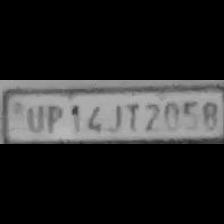0: (160, 99, 180, 131)
1: (64, 102, 82, 134)
2: (139, 98, 161, 132)
4: (82, 100, 106, 132)
5: (180, 99, 198, 131)
8: (198, 98, 220, 130)
J: (106, 100, 122, 132)
P: (42, 102, 64, 134)
U: (22, 102, 46, 134)
